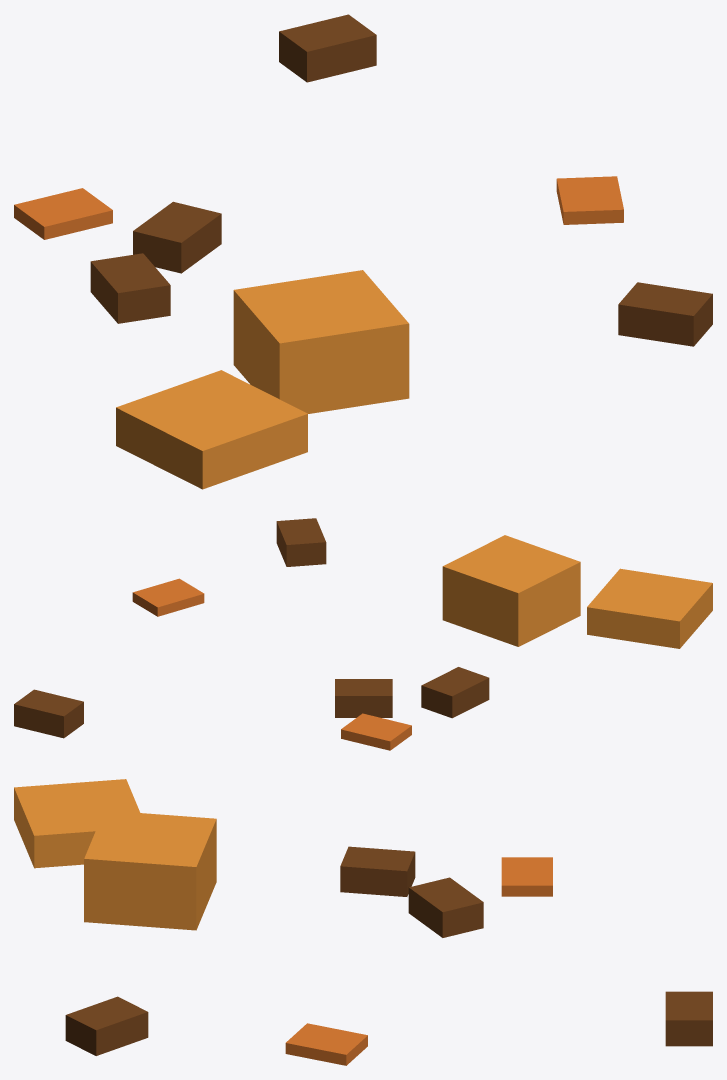
The model's file is Bricks1.FBX.
3 views of the same model, one above another, from view 1: azimuth 30°, elevation 25°; view 2: azimuth 150°, elevation 25°; view 3: azimuth 270°, elevation 25° (orthographic). The views are drawn at different scales.
Visible parts, largest first — view 1: Bricks1; view 2: Bricks1; view 3: Bricks1.
Boxes of the visible parts, x1,y1,x2,y2 form: Bricks1: [14, 14, 712, 489]; Bricks1: [14, 518, 712, 750]; Bricks1: [14, 779, 712, 1065].
Size of the model in its own units: 269 by 33.31 by 305.
